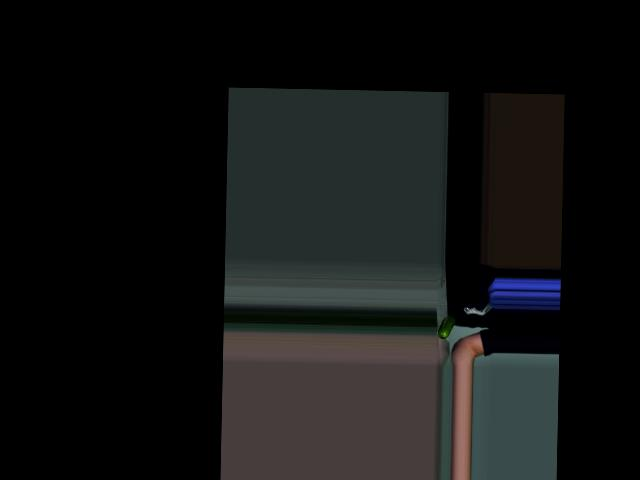cucumber: (437, 315, 455, 339)
